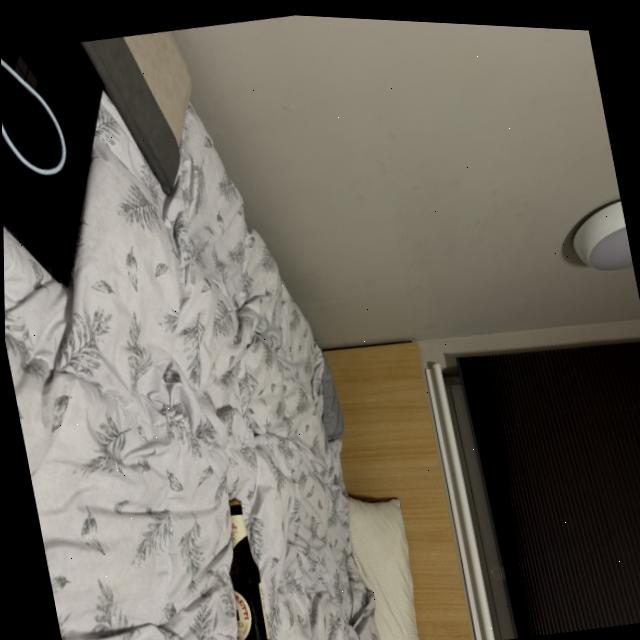beer: (206, 484, 281, 640)
